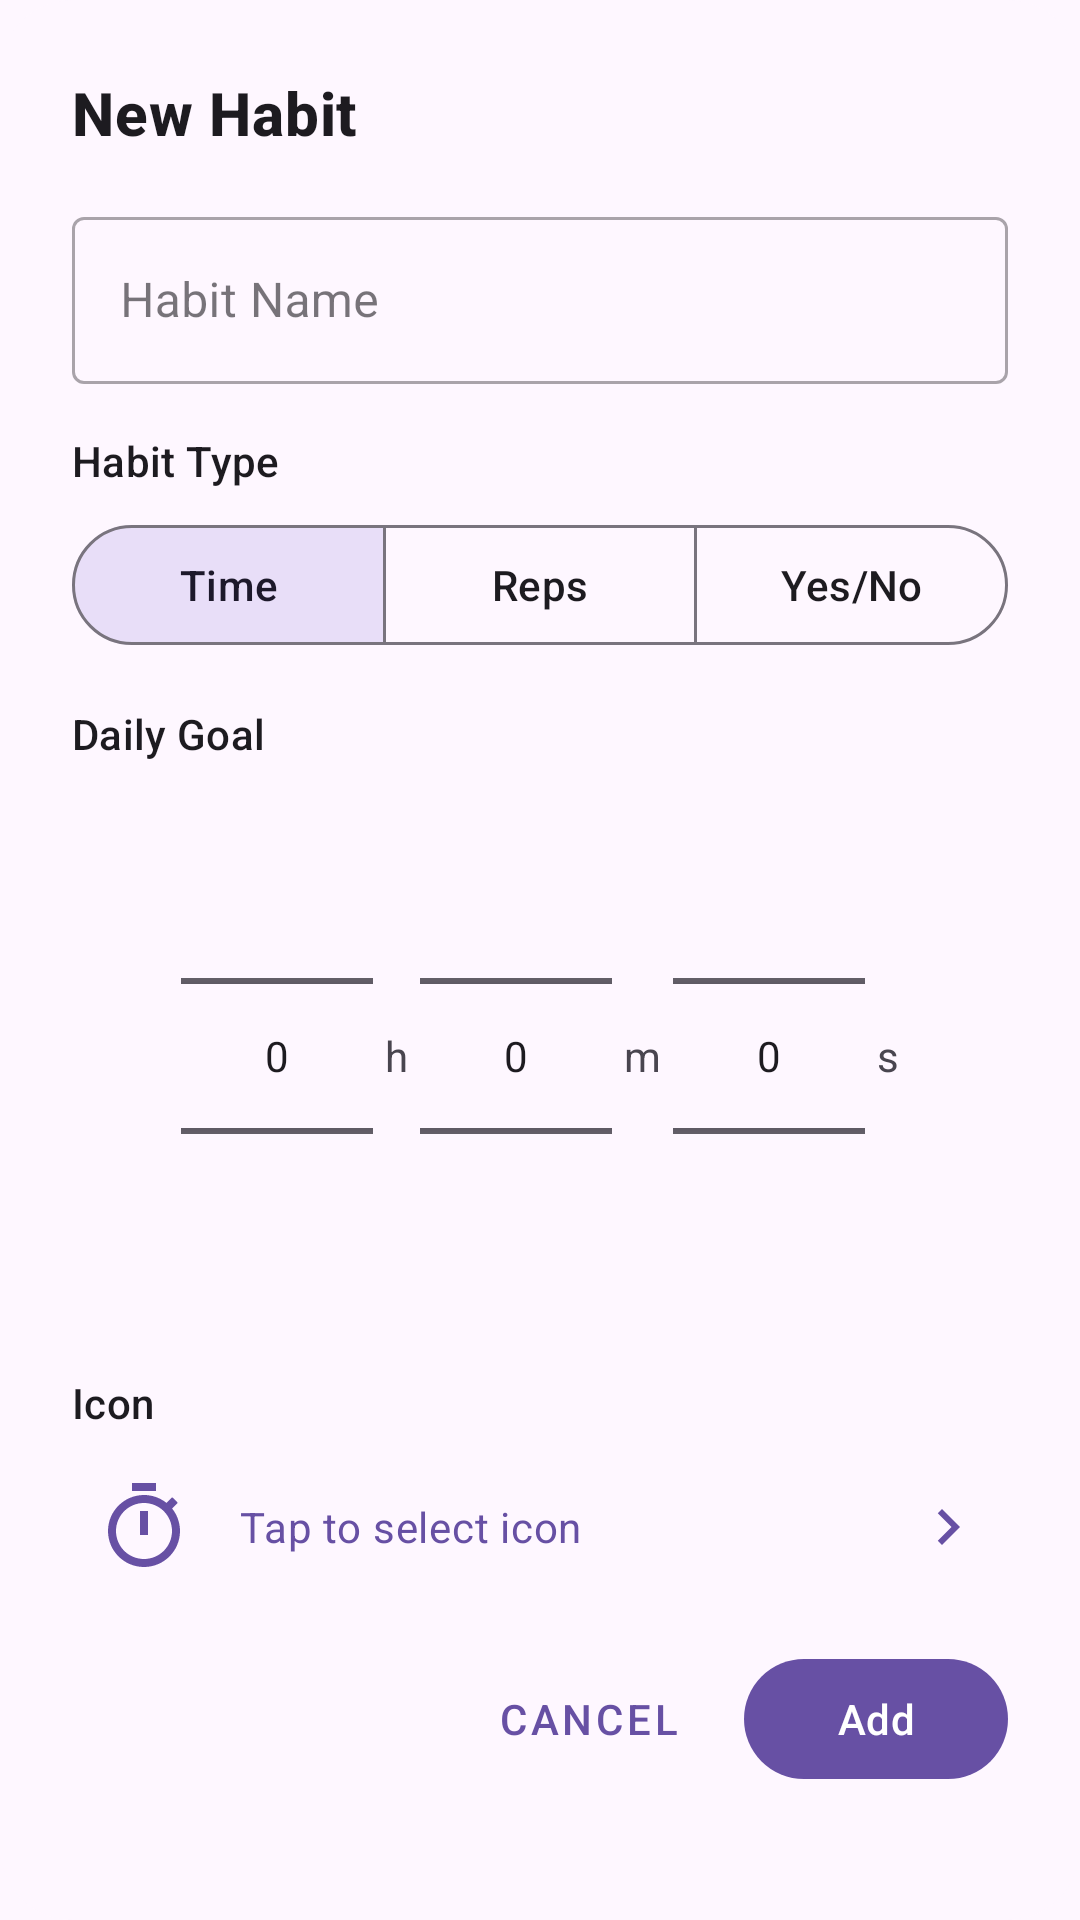

Named icons in this screenshot (1080×1920) and their bounding boxes, (x1, y1, x2, y2):
chevron right: (938, 1509, 960, 1545)
timer: (108, 1483, 180, 1567)
